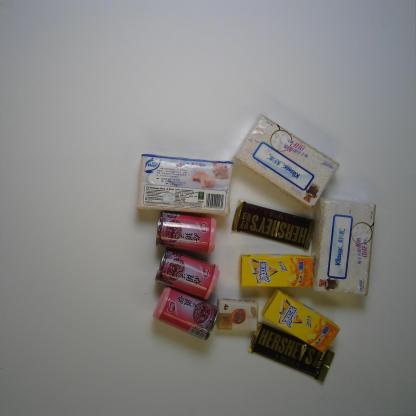Canned Food: (152, 286, 220, 342), (154, 249, 220, 300), (154, 209, 218, 254)
Chocolate: (246, 321, 336, 383), (231, 199, 316, 250)
Drink: (261, 289, 340, 354), (239, 252, 314, 288)
Tissue: (231, 114, 341, 211), (310, 196, 376, 297), (137, 154, 235, 218), (216, 297, 259, 333)
